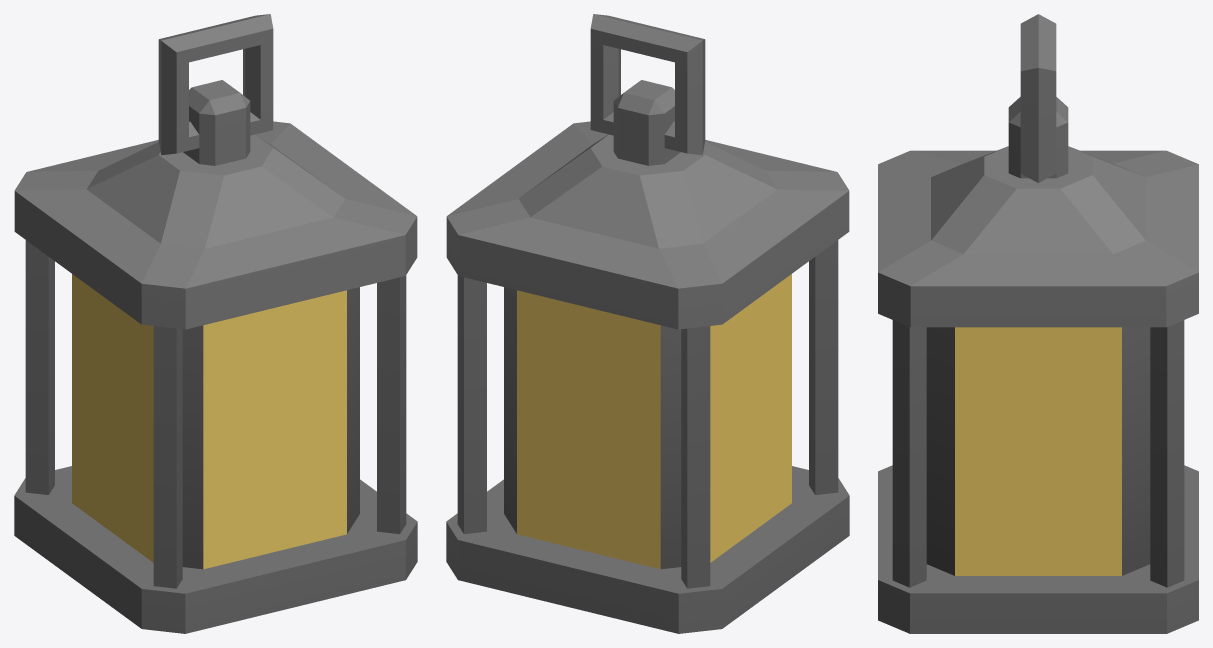
File: Lamp_E.fbx
3 renders of one model, left to right at view 1: azimuth 30°, elevation 25°; view 2: azimuth 150°, elevation 25°; view 3: azimuth 270°, elevation 25°, orthographic.
Visible parts, largest first — view 1: Lamp_E; view 2: Lamp_E; view 3: Lamp_E.
Part boxes in pixels (left/top/right/bottom): Lamp_E: left=14, top=14, right=417, bottom=633; Lamp_E: left=446, top=14, right=849, bottom=633; Lamp_E: left=878, top=14, right=1198, bottom=633.
Size of the model in its own units: 38.81 by 70.07 by 38.81.
